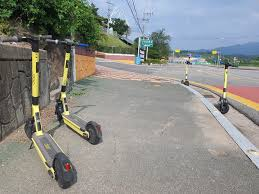kick_board: (2, 35, 76, 186), (217, 62, 233, 113), (182, 62, 191, 84)
kick_handler: (2, 34, 51, 48), (49, 38, 87, 50)
kick_neck: (31, 54, 41, 121), (62, 53, 70, 97), (223, 71, 229, 97), (185, 65, 188, 78)
kick_wheel: (53, 153, 76, 187), (85, 121, 101, 144), (54, 103, 63, 121), (25, 120, 33, 139), (219, 103, 228, 113)
